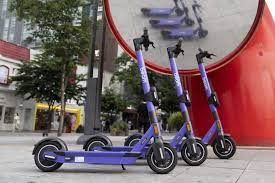kick_board: (33, 29, 178, 173)
kick_body: (69, 150, 135, 163)
kick_handler: (132, 29, 155, 51), (193, 48, 217, 64), (167, 38, 184, 57)
kick_neck: (136, 52, 162, 135), (197, 66, 226, 129), (170, 58, 194, 134)
kick_wheel: (34, 137, 65, 169), (149, 144, 177, 172), (180, 138, 206, 164), (212, 135, 235, 158), (84, 134, 108, 150), (126, 135, 148, 146)
